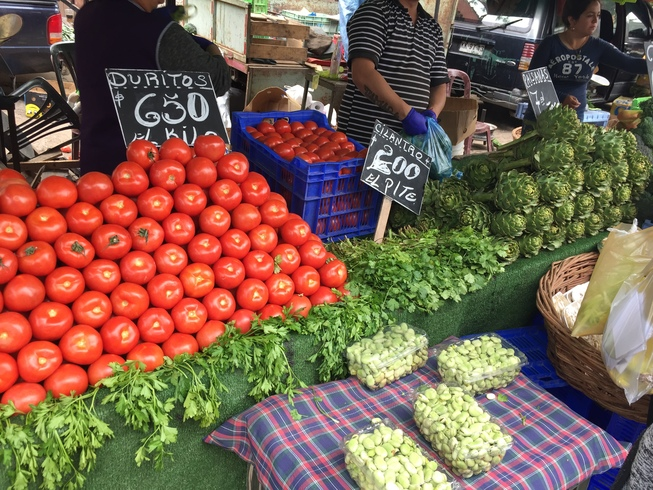precio: (110, 66, 235, 166), (355, 119, 436, 214), (522, 67, 569, 135)
